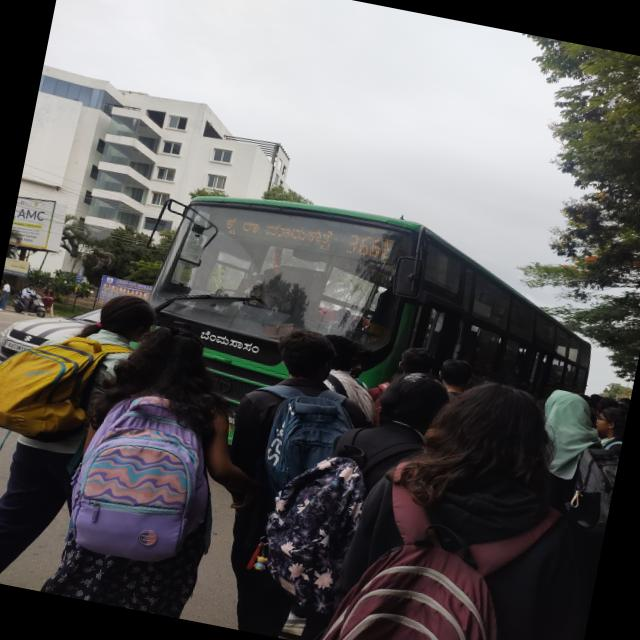bus: (141, 157, 608, 426)
display: (206, 204, 404, 274)
dnumber: (346, 232, 398, 266)
